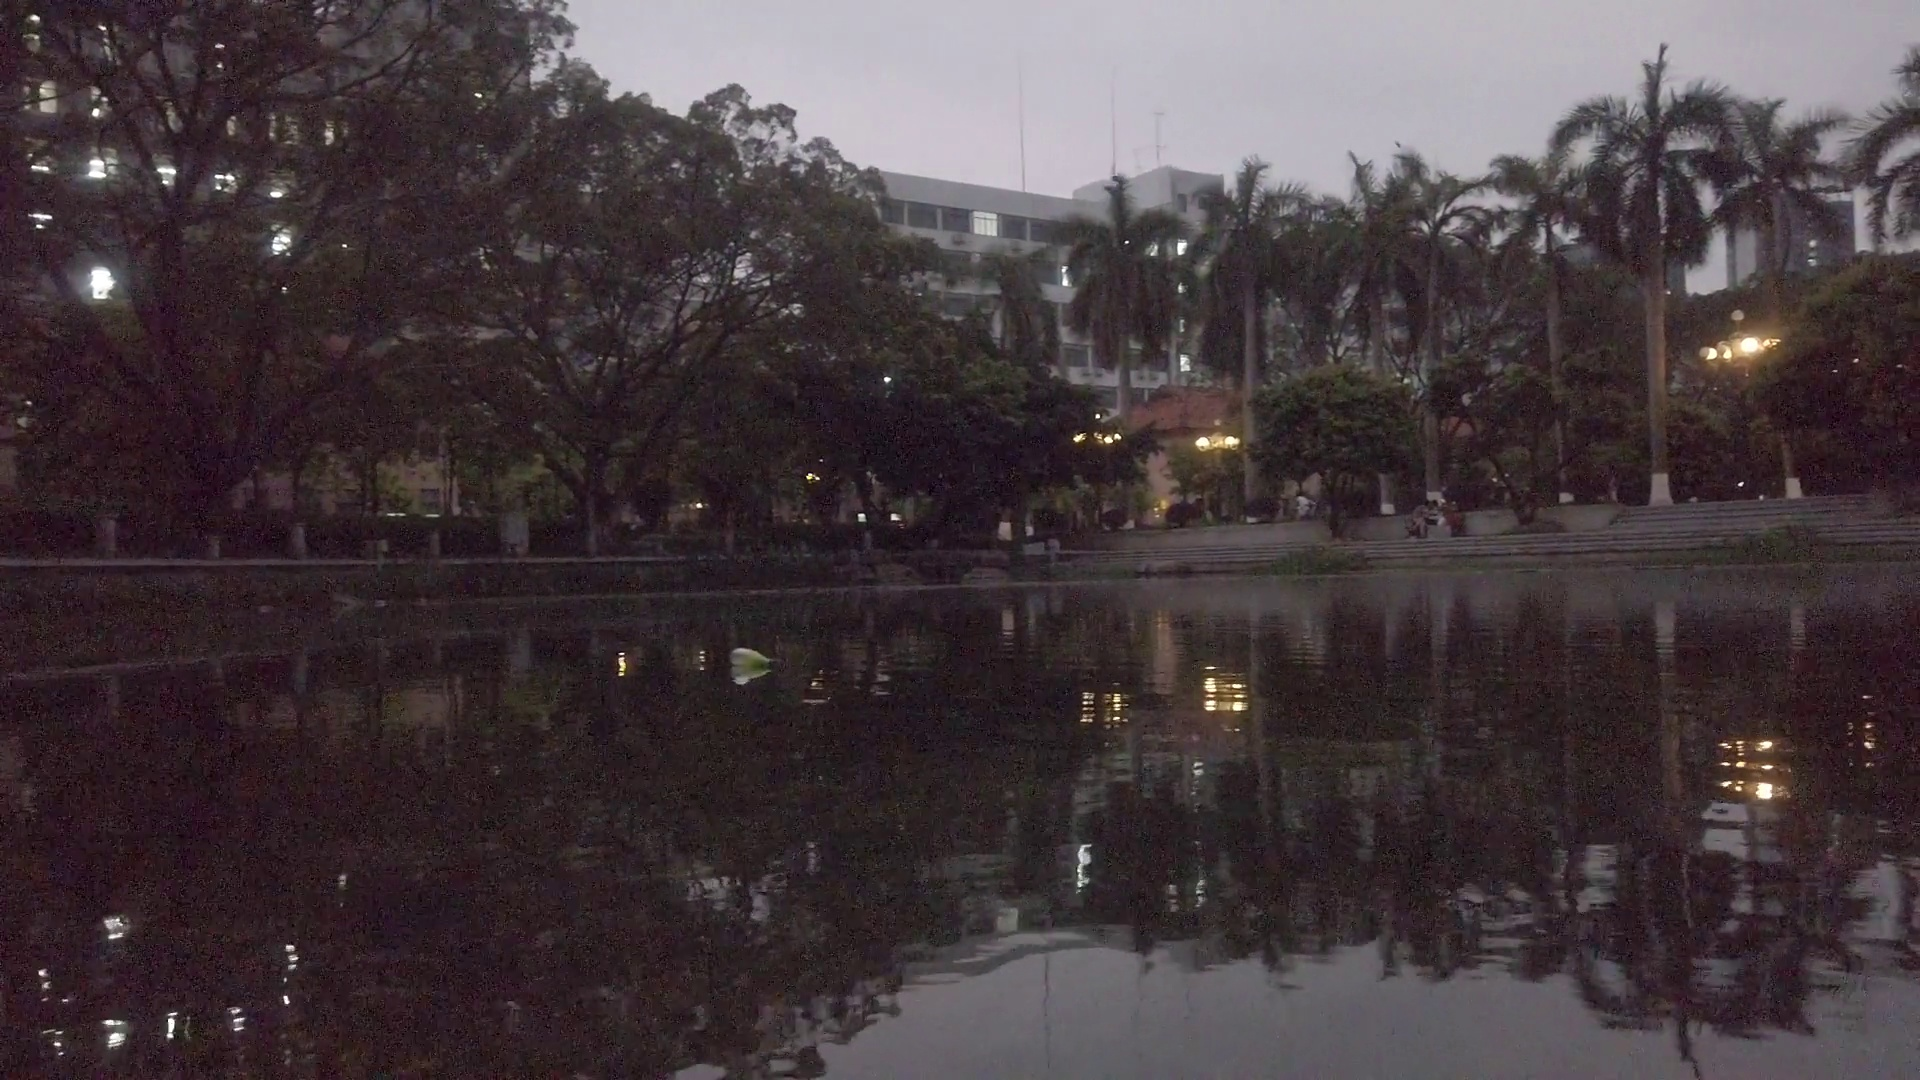bottle: (728, 644, 775, 667)
